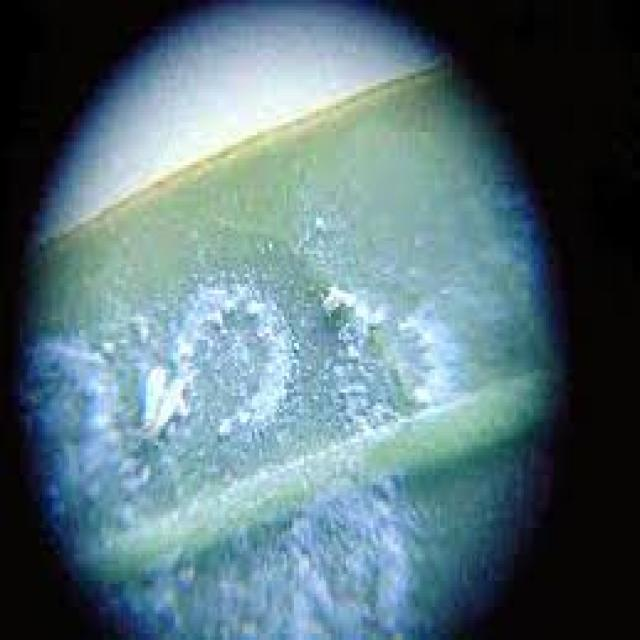Pestalotiopsis: (141, 264, 312, 477), (306, 252, 428, 449)
